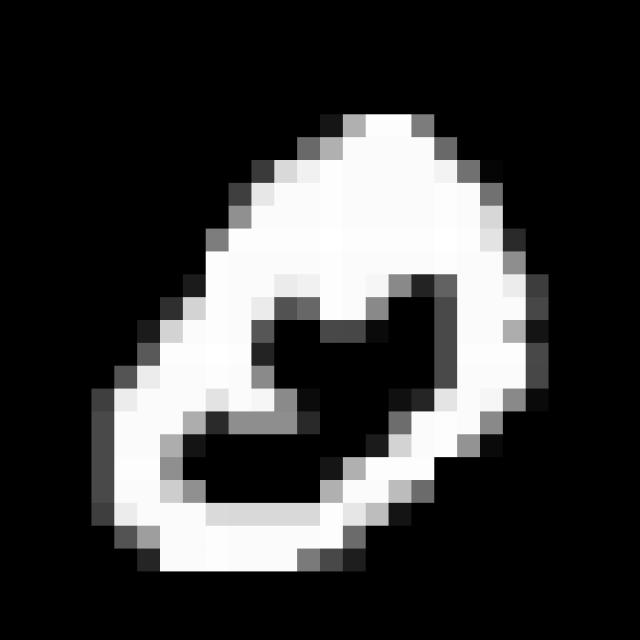zero -0-: (78, 89, 553, 588)
